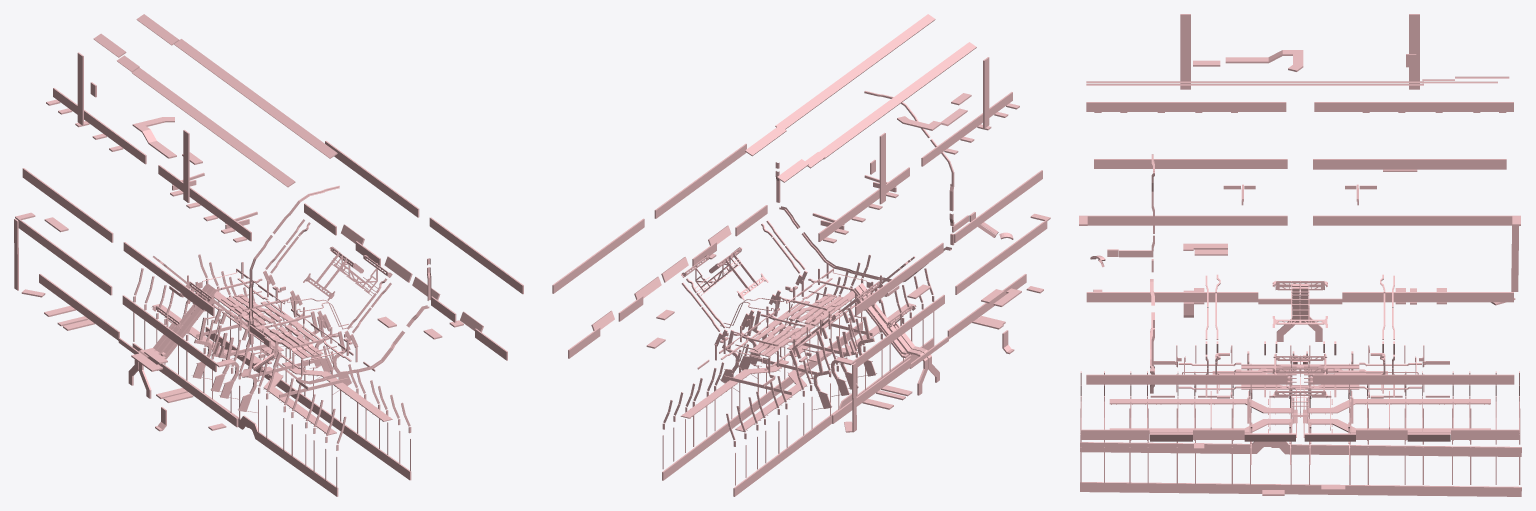
Rendered from Serv-Muon-Cable Trays-cut3.glb.
3 renders of one model, left to right at view 1: azimuth 30°, elevation 25°; view 2: azimuth 150°, elevation 25°; view 3: azimuth 270°, elevation 25°, orthographic. The views are drawn at different scales.
Parts seen in each view (by area): view 1: Cabble Trays-cut3; view 2: Cabble Trays-cut3; view 3: Cabble Trays-cut3.
Part boxes in pixels (x1,y1,x2,y2): Cabble Trays-cut3: (14,14,523,496); Cabble Trays-cut3: (552,14,1050,496); Cabble Trays-cut3: (1079,14,1521,496).
Bounding box in the file's own units: 23.78 × 25.01 × 25.76.
